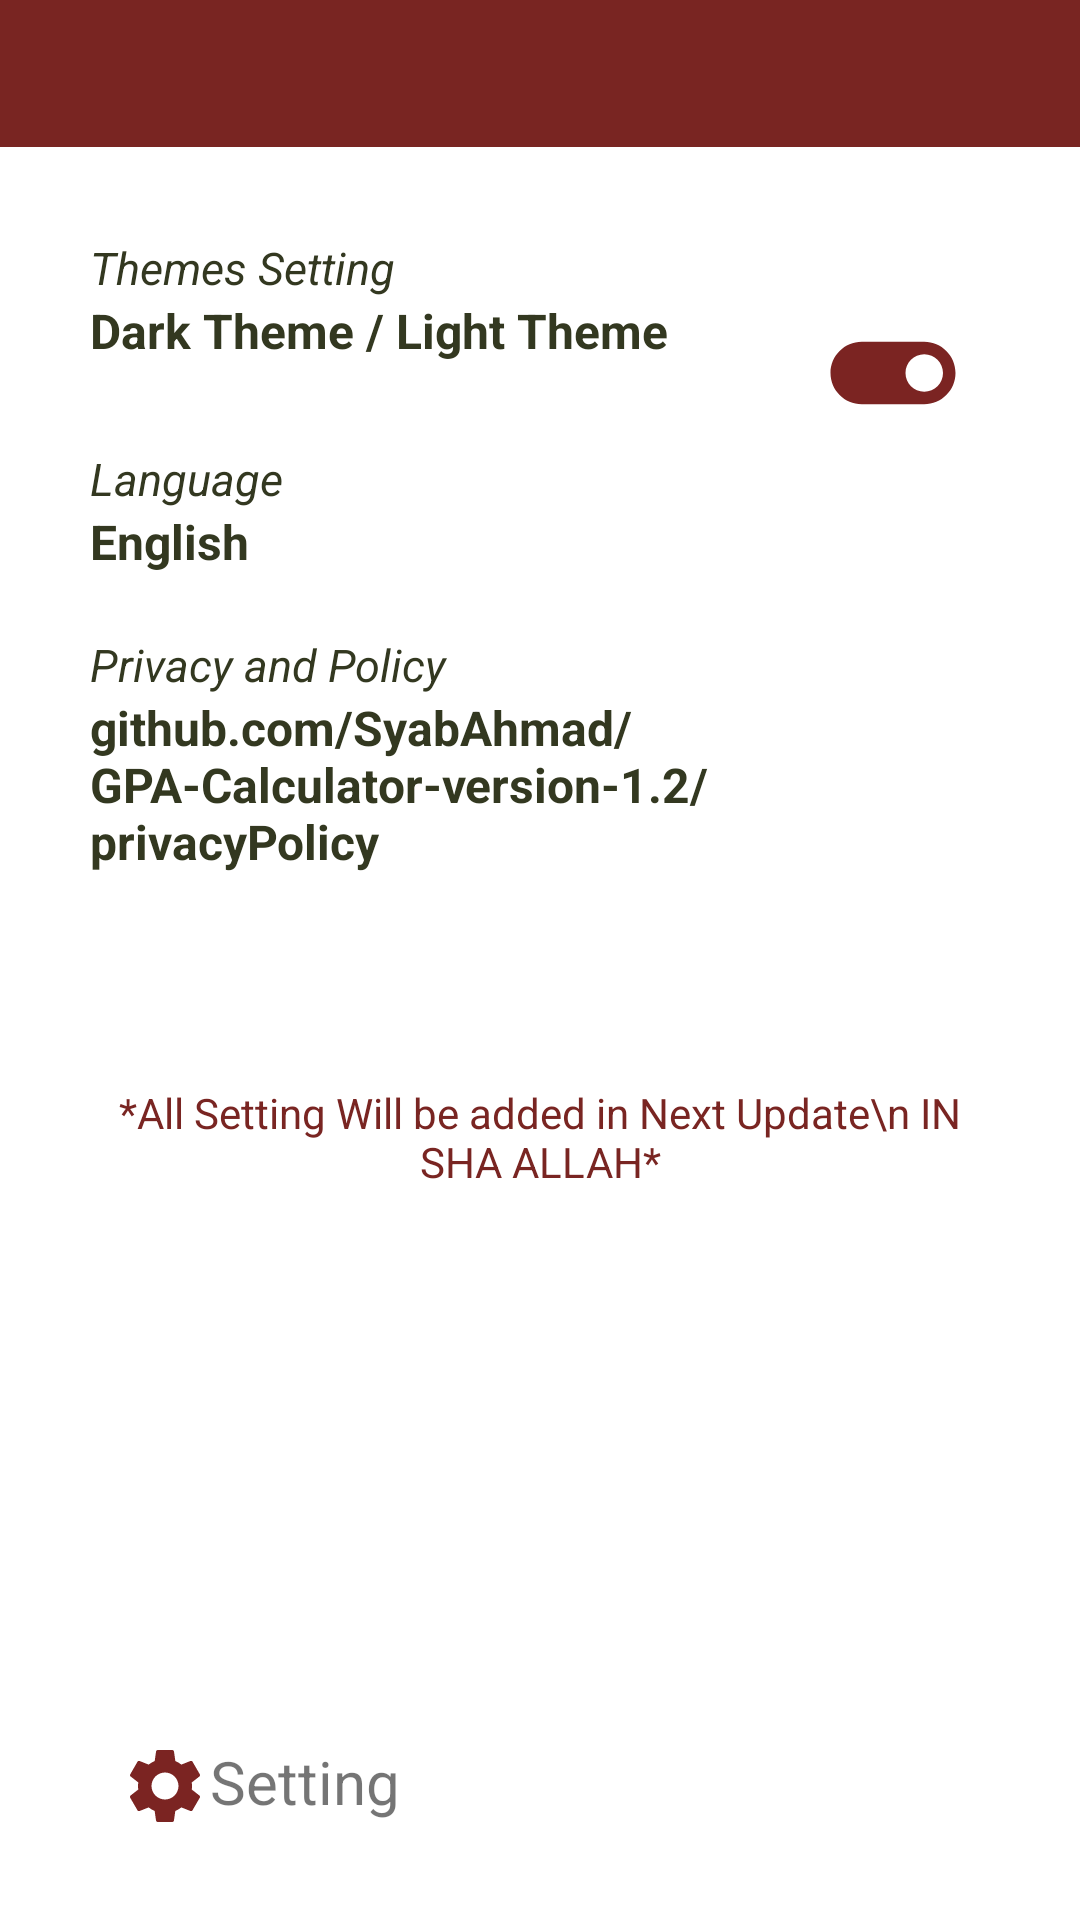

Icons on this 1080*1920 Android screen, each with its box as (x1, y1, x2, y2):
toggle on: (830, 341, 956, 405)
